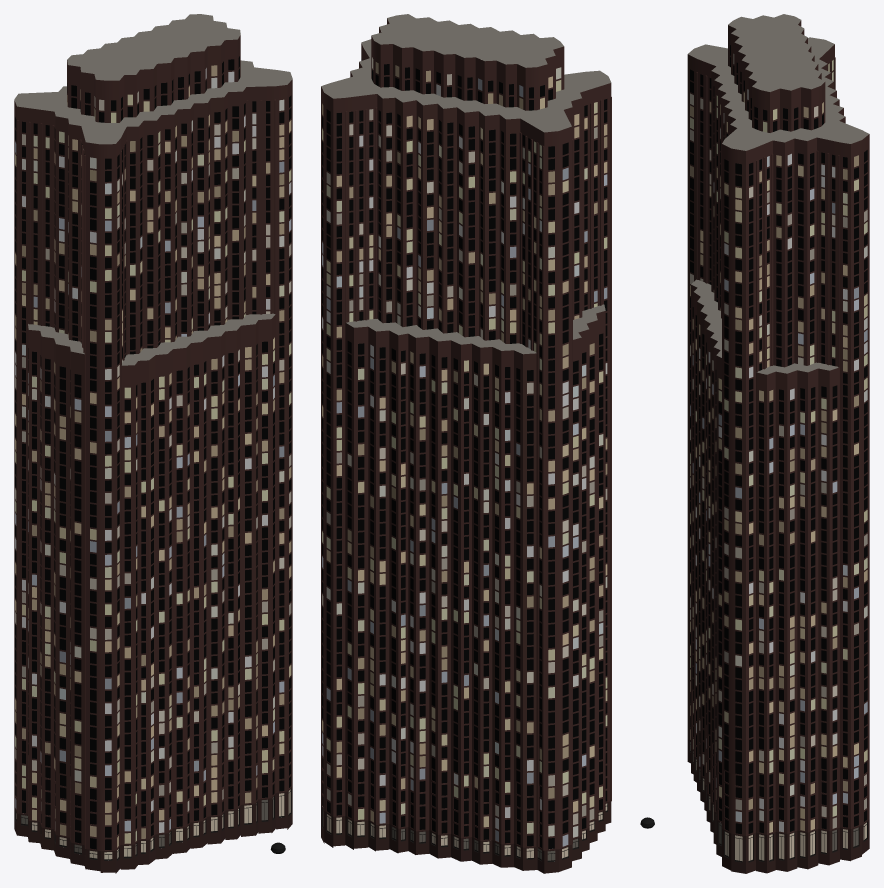
The picture shows the model from 3 angles, left to right: view 1: azimuth 30°, elevation 25°; view 2: azimuth 150°, elevation 25°; view 3: azimuth 270°, elevation 25°; orthographic projection. The views are drawn at different scales.
Visible parts, largest first — view 1: L0_granite, L0_win, L0_roof, L0_shop, L0_metal; view 2: L0_granite, L0_win, L0_roof, L0_shop, L0_metal; view 3: L0_granite, L0_win, L0_roof, L0_shop, L0_metal.
Part boxes in pixels (x1,y1,x2,y2): L0_granite: (14, 35, 292, 873); L0_win: (15, 56, 291, 849); L0_roof: (14, 14, 292, 365); L0_shop: (16, 789, 290, 859); L0_metal: (15, 788, 291, 860); L0_granite: (321, 18, 611, 873); L0_win: (322, 57, 607, 849); L0_roof: (321, 14, 611, 354); L0_shop: (323, 803, 607, 860); L0_metal: (321, 803, 607, 862); L0_granite: (640, 20, 869, 873); L0_win: (690, 45, 867, 834); L0_roof: (688, 14, 868, 374); L0_shop: (690, 742, 866, 861); L0_metal: (689, 741, 867, 862).
Size of the model in its own units: 77.4 by 242 by 65.79.
